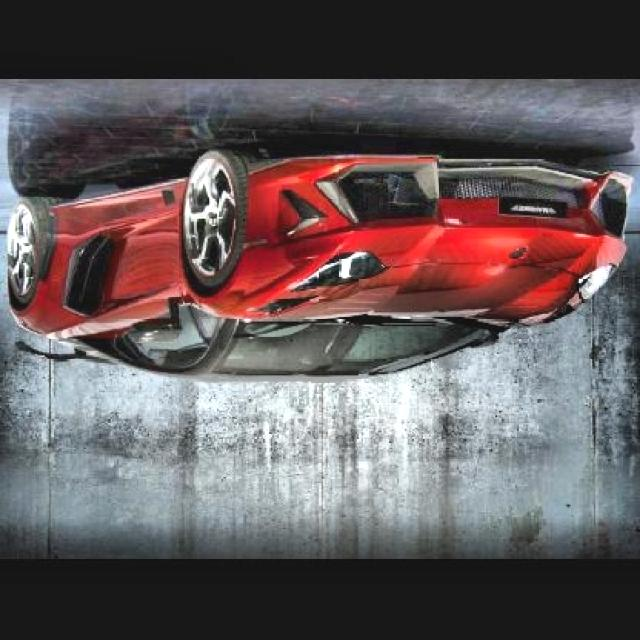red: (9, 163, 628, 380)
